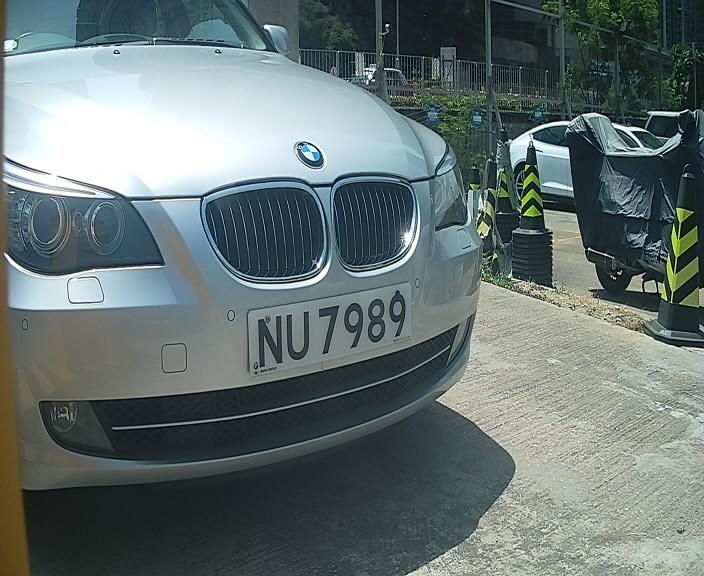License Plate: (236, 276, 412, 389)
